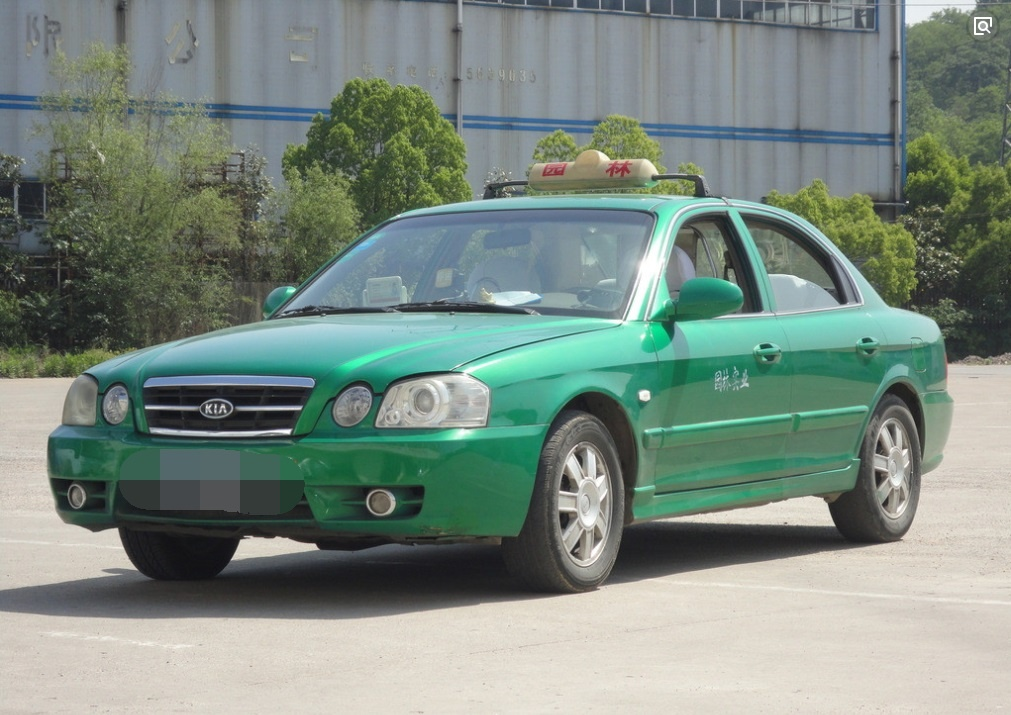taxi: (38, 172, 953, 578)
